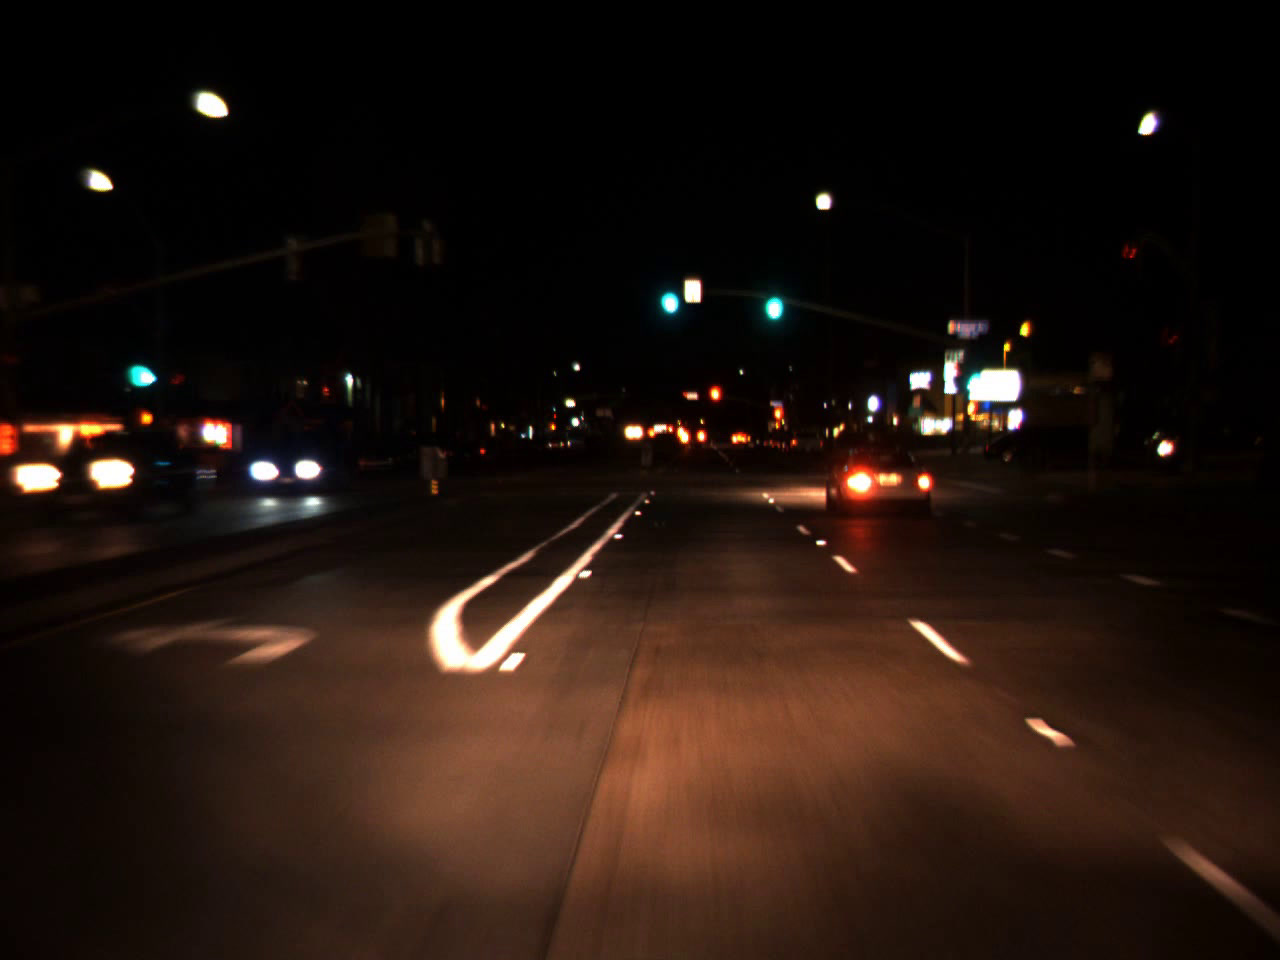go: (120, 336, 161, 396), (758, 266, 786, 329), (654, 267, 682, 321), (965, 355, 988, 400)
stop: (707, 383, 722, 418), (773, 402, 785, 439)
